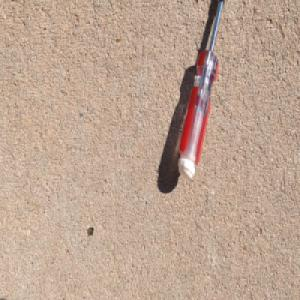Screwdriver: (176, 0, 227, 181)
